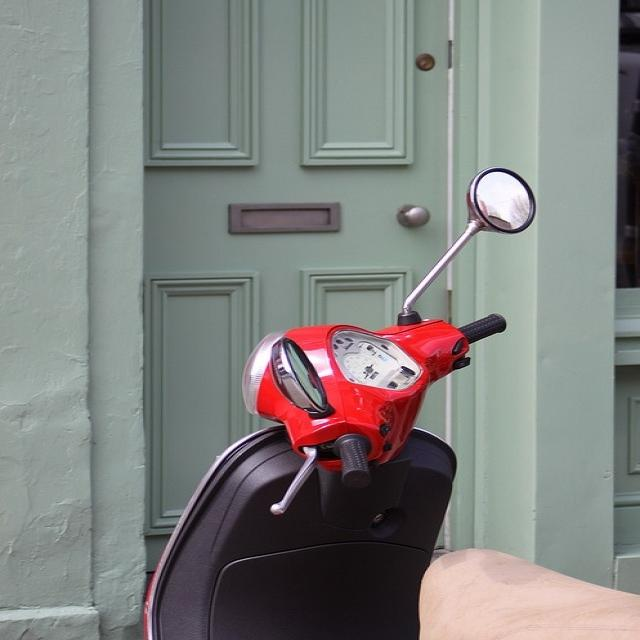scooter: (145, 168, 534, 639)
